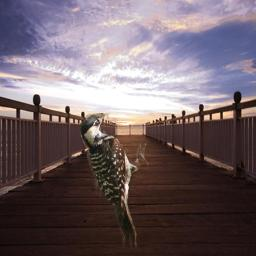Woodpecker: (80, 113, 149, 249)
